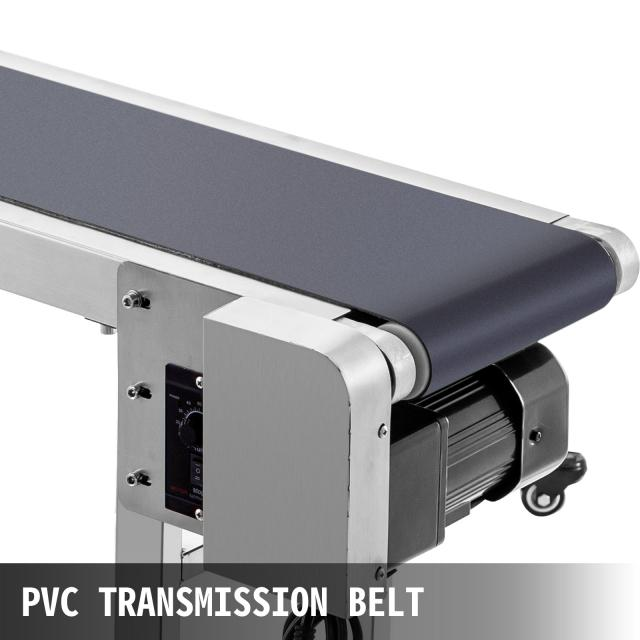Convoyeur: (0, 31, 640, 417)
